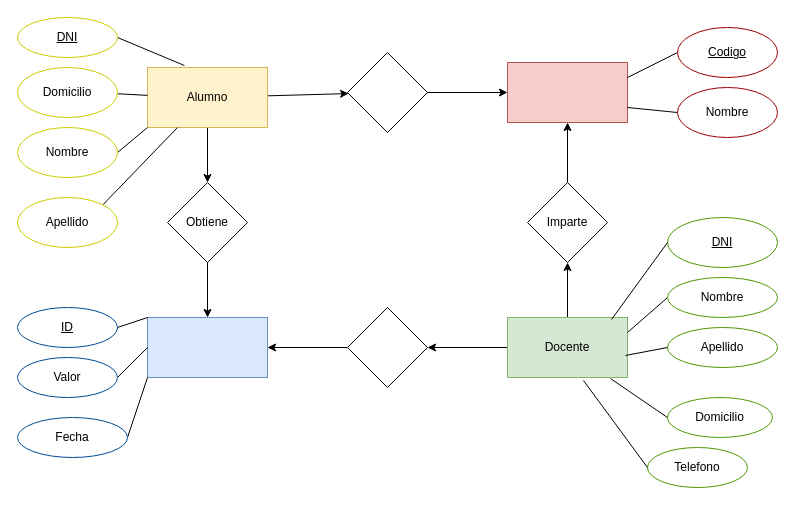
Some shapes in this 795 by 505 pixel diagram are drawn without their labels. Here are the shapes that lost their labels. From the top down, the box of each, then its label:
(346, 52, 428, 132): Cursa
(506, 62, 628, 122): Asignatura
(146, 316, 268, 378): Calificaciones
(346, 306, 428, 388): Genera
